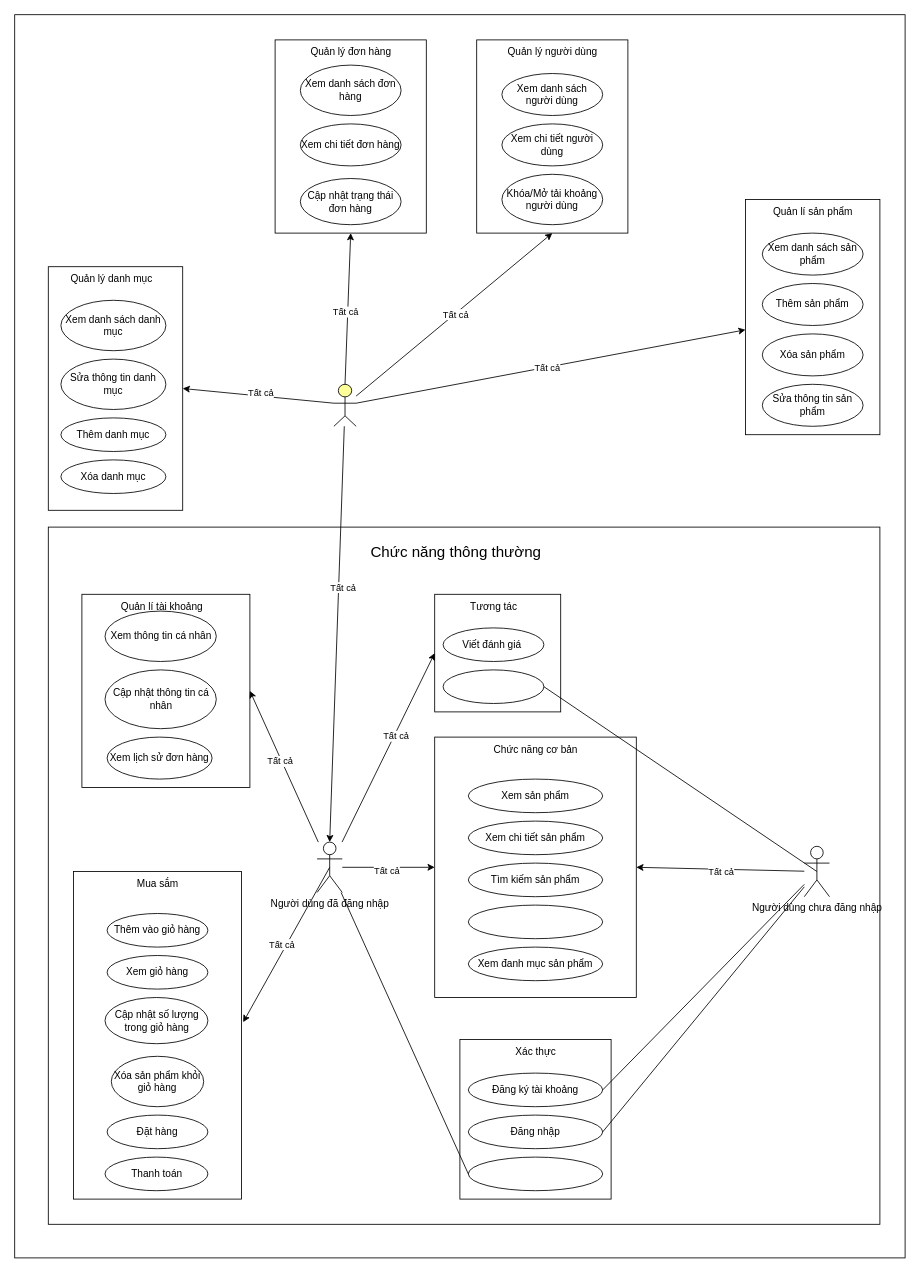
Some shapes in this 920 by 1273 pixel diagram are drawn without their labels. Here are the shapes that lost their labels. From the top down, the box of each, then its label:
(333, 383, 356, 426): Admin
(442, 669, 544, 704): Xem đánh giá
(467, 904, 603, 939): Lọc sản phẩm
(467, 1156, 603, 1191): Đăng xuất
